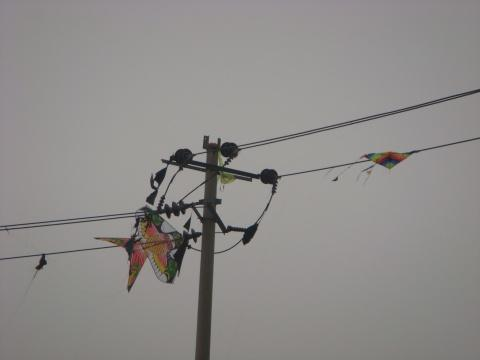kite: (94, 206, 192, 292), (358, 145, 420, 178)
